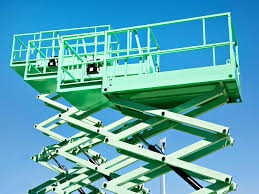Scissor Lift: (105, 11, 243, 194), (11, 28, 104, 194)
